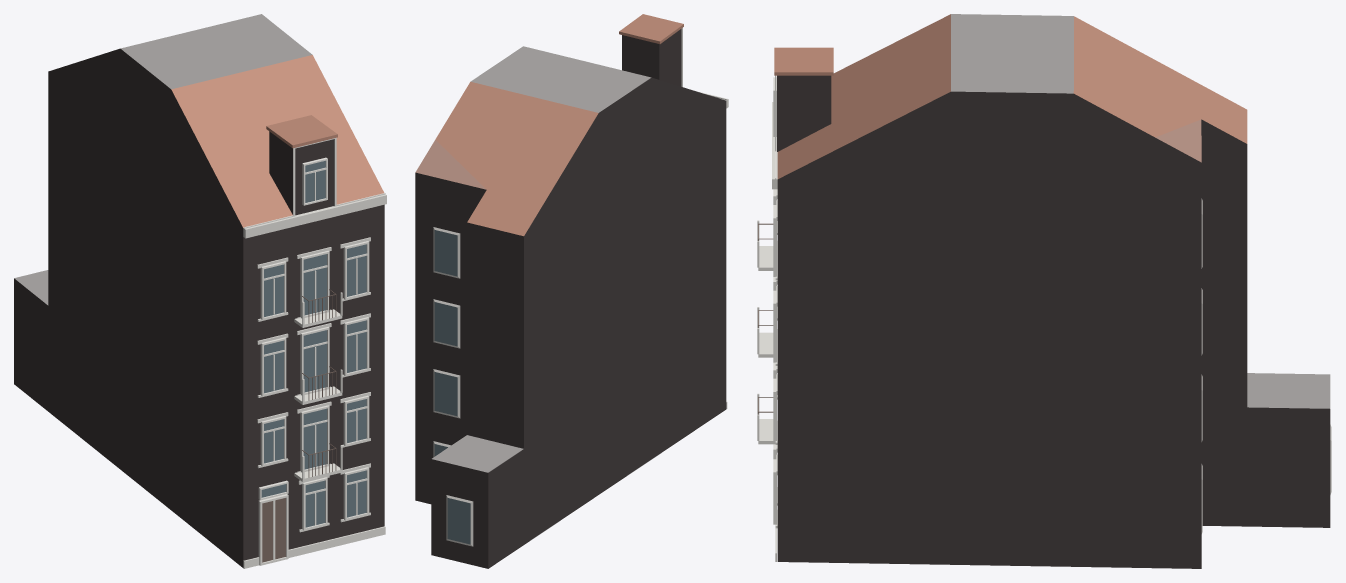
Rendered from chunk-face-pretorius-1-33-r1.glb.
3 views of the same model, side by side, from view 1: azimuth 30°, elevation 25°; view 2: azimuth 150°, elevation 25°; view 3: azimuth 270°, elevation 25° (orthographic). The views are drawn at different scales.
Visible parts, largest first — view 1: face-pretorius-1-33-r1; view 2: face-pretorius-1-33-r1; view 3: face-pretorius-1-33-r1.
Boxes of the visible parts, left/top/right/bottom form: face-pretorius-1-33-r1: left=14, top=14, right=386, bottom=568; face-pretorius-1-33-r1: left=415, top=14, right=728, bottom=568; face-pretorius-1-33-r1: left=757, top=14, right=1331, bottom=568.
Bounding box in the file's own units: 6.4 × 16.68 × 18.35.
